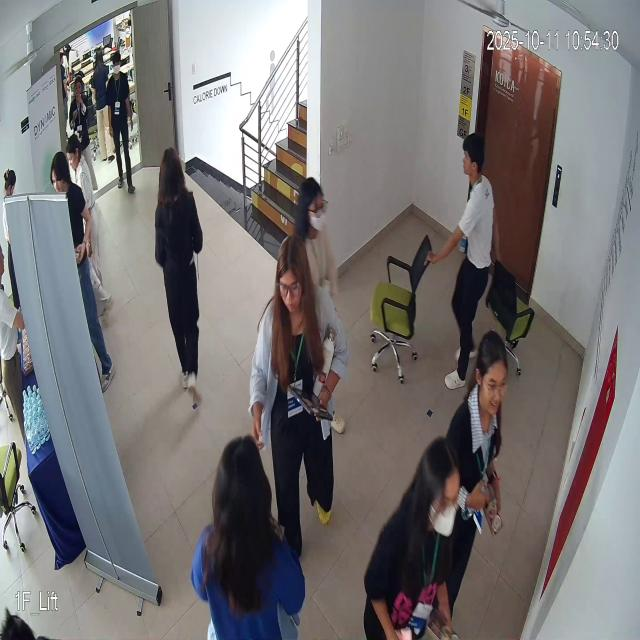face: (473, 326, 512, 420), (277, 229, 312, 333), (459, 129, 488, 187)
